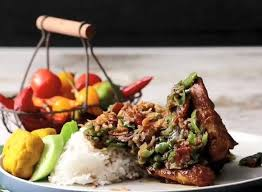ayam_geprek: (68, 77, 235, 183)
